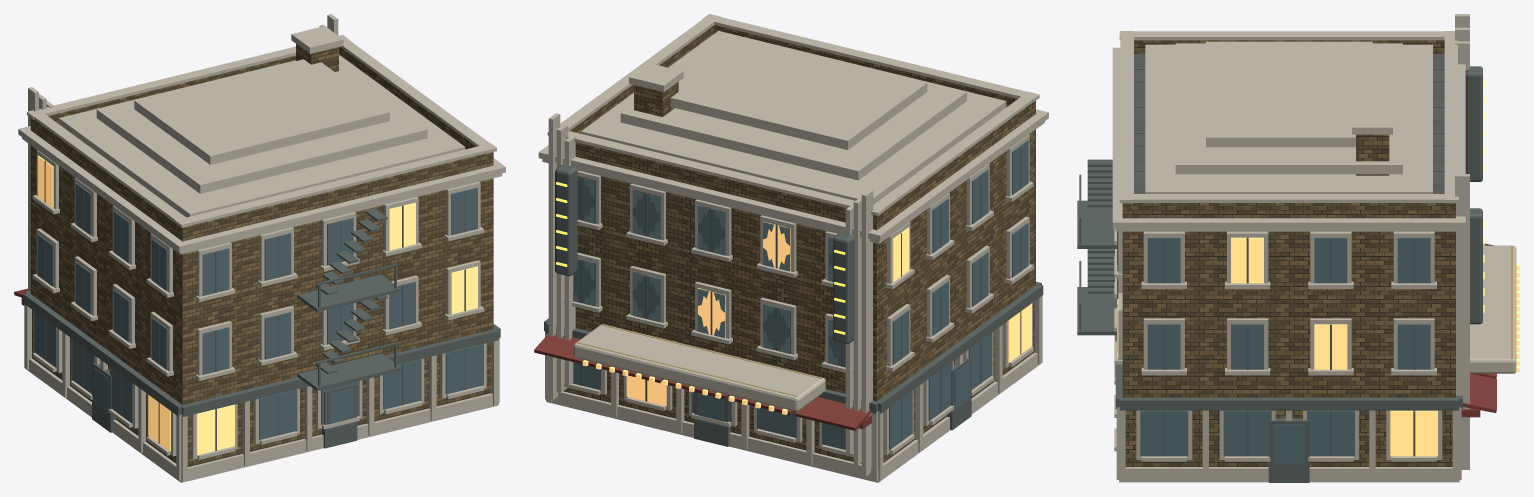
Rendered from monarch.glb.
The picture shows the model from 3 angles, left to right: view 1: azimuth 30°, elevation 25°; view 2: azimuth 150°, elevation 25°; view 3: azimuth 270°, elevation 25°; orthographic projection. The views are drawn at different scales.
Visible parts, largest first — view 1: foundation, masonry, window pane.001, roof tar seam, window pane, roof; view 2: foundation, masonry, roof tar seam, window pane.001, window pane.020, window glass remnant, window pane, canvas awning, window pane.022, marquee brass edge; view 3: foundation, masonry, roof tar seam, window pane.001, window pane, roof, canvas awning.
Boxes of the visible parts, x1,y1,x2,y2 form: foundation: (18, 14, 505, 482); masonry: (30, 44, 493, 466); window pane.001: (34, 183, 483, 439); roof tar seam: (23, 160, 500, 450); window pane: (37, 155, 477, 455); roof: (30, 129, 492, 241); foundation: (538, 14, 1048, 482); masonry: (563, 25, 1035, 463); roof tar seam: (544, 145, 1043, 449); window pane.001: (572, 140, 1028, 449); window pane.020: (573, 176, 845, 366); window glass remnant: (573, 177, 845, 367); window pane: (582, 227, 1031, 414); canvas awning: (534, 333, 871, 430); window pane.022: (698, 221, 790, 337); marquee brass edge: (577, 324, 822, 396); foundation: (1112, 14, 1516, 482); masonry: (1122, 40, 1455, 466); roof tar seam: (1077, 55, 1482, 482); window pane.001: (1115, 231, 1430, 463); window pane: (1117, 237, 1519, 456); roof: (1123, 54, 1455, 218); canvas awning: (1461, 243, 1496, 417).
Size of the model in its own units: 13.65 by 11.98 by 14.61.
11 materials, 2 textured.
